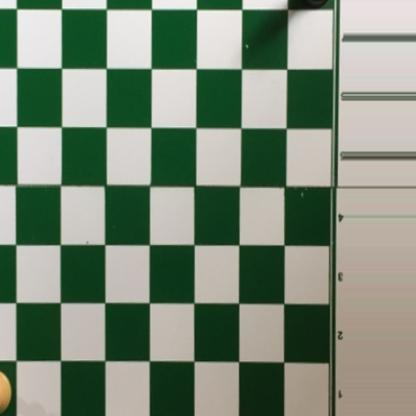black-king: (295, 0, 344, 11)
white-king: (0, 370, 15, 416)
